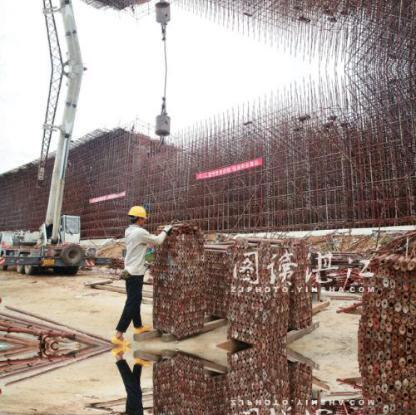helmet: (121, 196, 155, 225)
